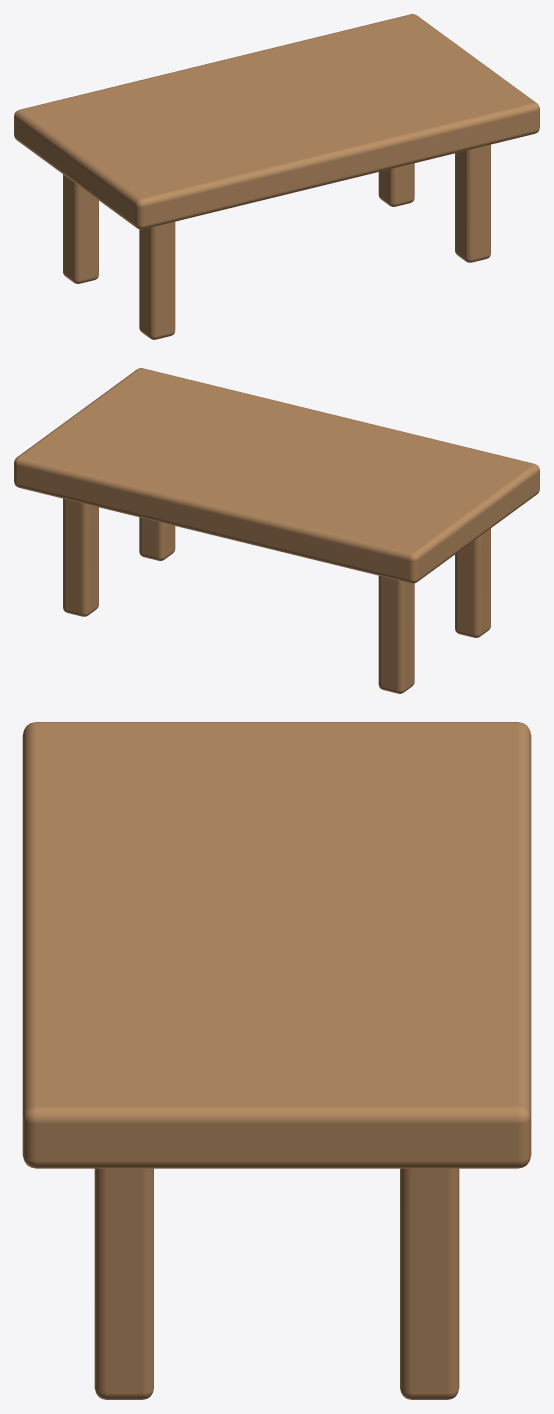
The model's file is line-table.glb.
3 renders of one model, top to bottom at view 1: azimuth 30°, elevation 25°; view 2: azimuth 150°, elevation 25°; view 3: azimuth 270°, elevation 25°, orthographic. The views are drawn at different scales.
Parts seen in each view (by area): view 1: Top, Leg (×4); view 2: Top, Leg (×4); view 3: Top, Leg (×2).
Part boxes in pixels (x1=…): Top: x1=14, y1=14, x2=539, y2=229; Leg (×4): x1=63, y1=144, x2=490, y2=339; Top: x1=14, y1=368, x2=539, y2=583; Leg (×4): x1=63, y1=498, x2=490, y2=693; Top: x1=22, y1=722, x2=531, y2=1168; Leg (×2): x1=94, y1=1168, x2=459, y2=1399.
Size of the model in its own units: 1.1 by 0.42 by 0.6.
